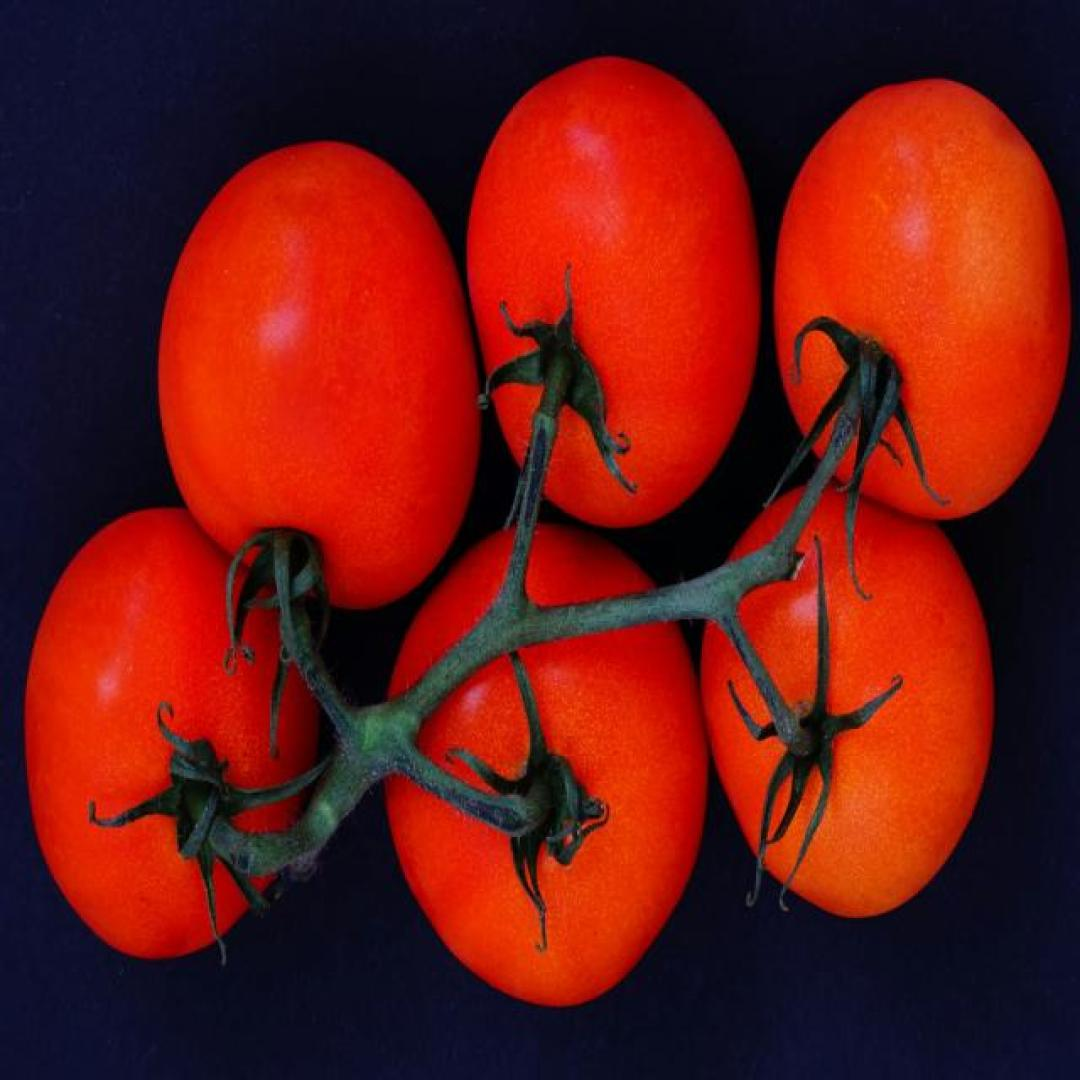matang: (383, 526, 709, 1008), (155, 142, 481, 602), (468, 51, 760, 528), (27, 508, 319, 958), (771, 79, 1072, 513), (704, 478, 996, 918)
